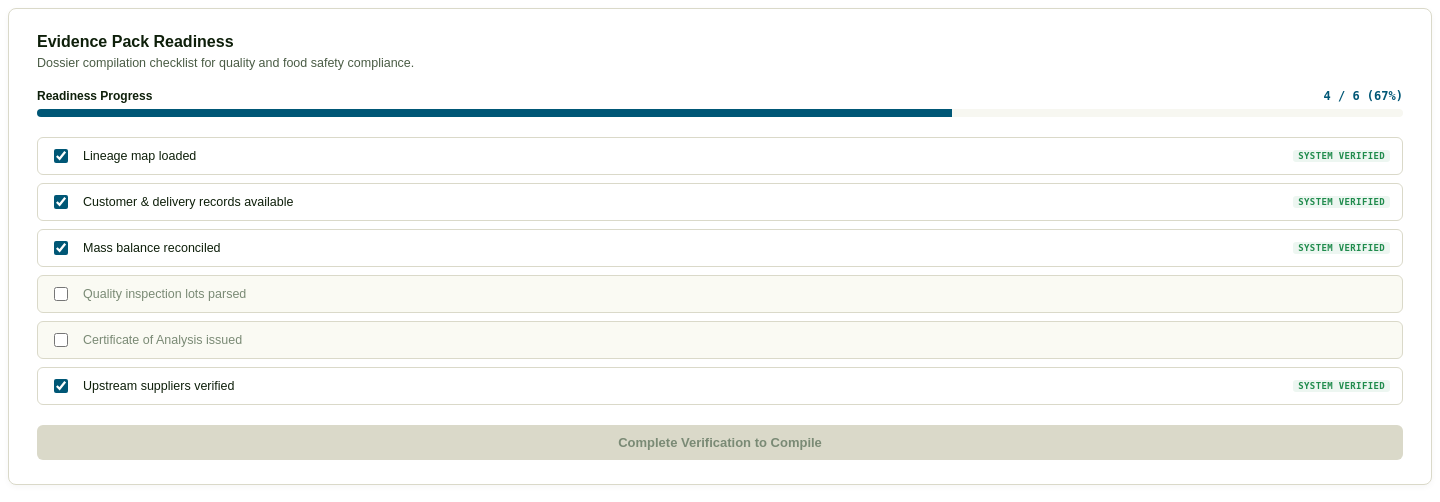
Test: EvidencePackReadiness › unlocks compile button only when all items are verified
Expected: the button is disabled, [37,424,1403,460]
Click remaining items
Click the text "Quality inspection lots parsed": point(165, 294) [83,286,246,300]
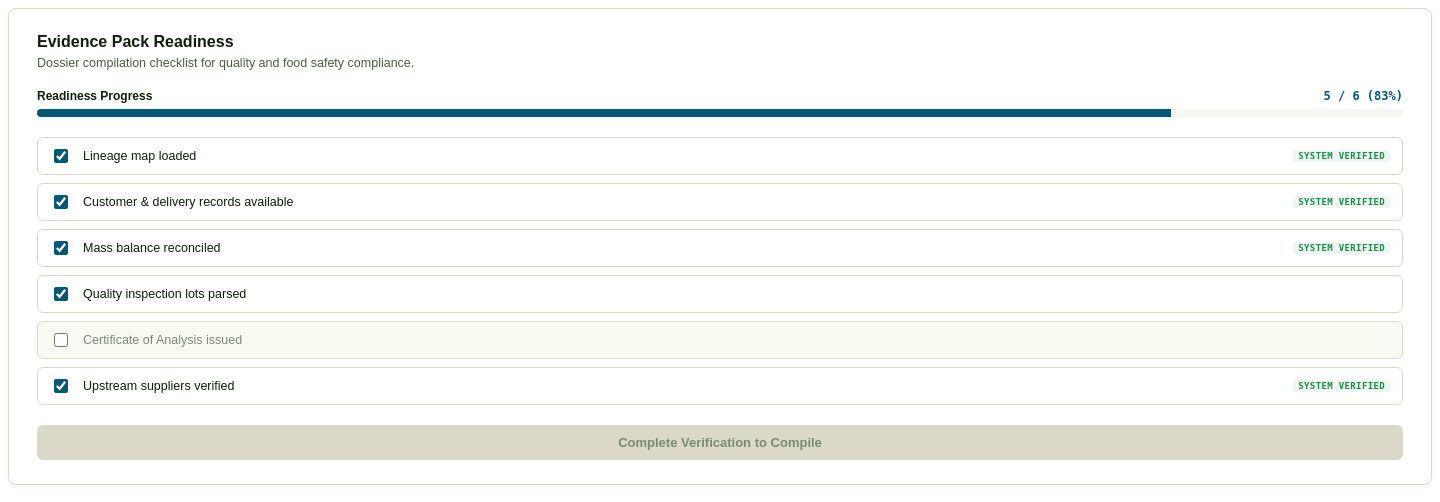
Click the text "Certificate of Analysis issued": point(163, 340) [83,332,242,346]
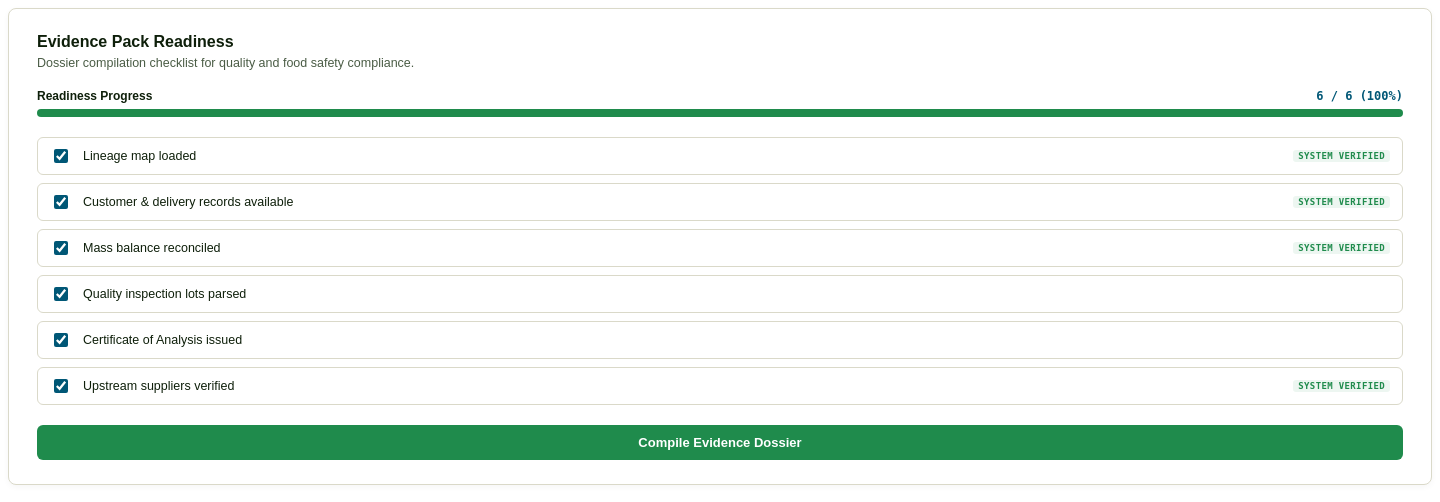
Now the text "6 / 6 (100%)" is shown, box [1316,88,1403,102]
Now the button is enabled, box [37,424,1403,460]
